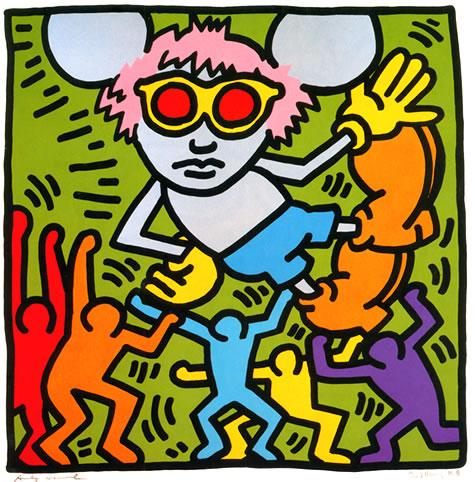person: (101, 23, 447, 316), (44, 231, 180, 461), (123, 289, 304, 457), (306, 282, 461, 465), (172, 337, 366, 467), (10, 203, 67, 474)
